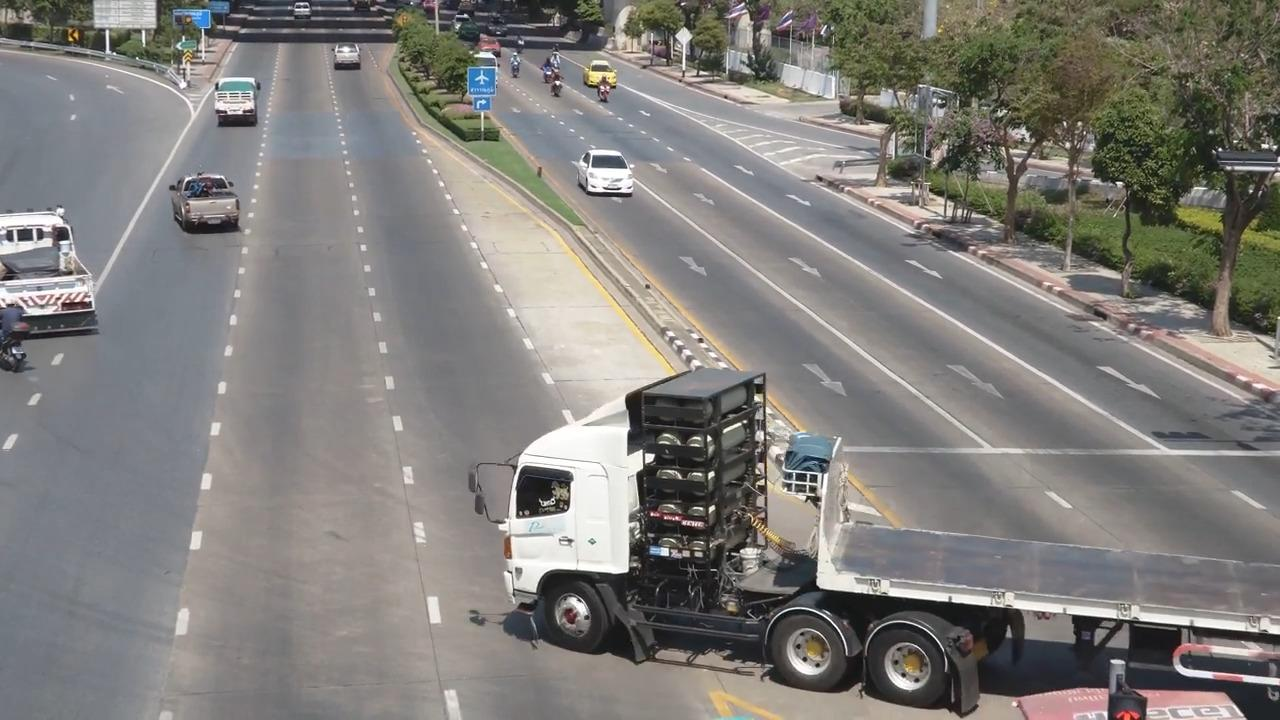CAR: (0, 196, 127, 339), (164, 166, 261, 245), (202, 62, 282, 144), (573, 141, 644, 216), (321, 36, 379, 80), (581, 56, 630, 98), (281, 0, 326, 43)
HGV_BUS: (451, 358, 1279, 720)
MOTOR: (0, 294, 66, 394)
